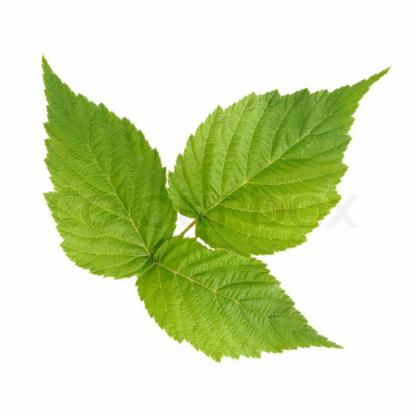Raspberry leaf: (164, 62, 399, 263), (33, 53, 179, 282), (135, 232, 347, 365)
